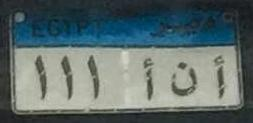1: (83, 53, 105, 101), (56, 52, 76, 101), (32, 53, 51, 101)
alif: (140, 57, 159, 100), (212, 52, 228, 100)
noon: (169, 60, 198, 104)
